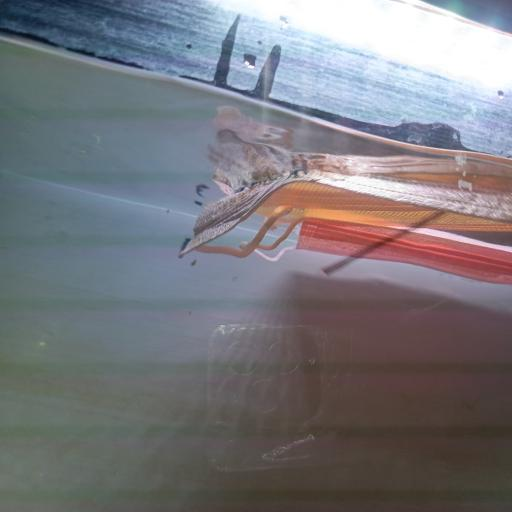mask: (177, 174, 512, 240), (308, 216, 512, 282)
